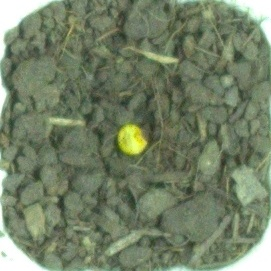pepper seed: (40, 45, 191, 202)
